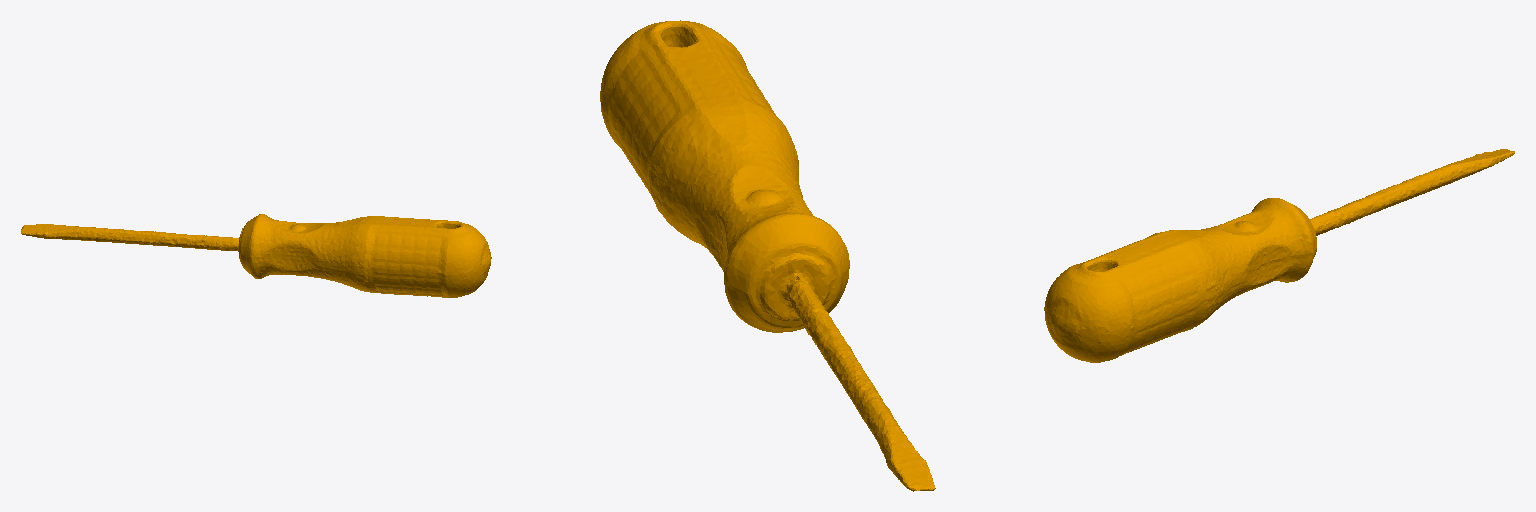
URDF robot description (044_flat_screwdriver):
<?xml version="1.0"?>
<robot name="044_flat_screwdriver">
  <link name="base_link">
    <inertial>
      <mass value="0.1" />
      <origin xyz="0 0 0" />
      <inertia  ixx="0.0002" ixy="0.0"  ixz="0.0"  iyy="0.0002"  iyz="0.0" izz="0.0002" />
    </inertial>
    <visual>
      <geometry>
        <mesh filename="../../meshes/ycb_video_models/centered/044_flat_screwdriver/textured.obj" />
      </geometry>
    </visual>
    <collision>
      <geometry>
        <mesh filename="../../meshes/ycb_video_models/centered/044_flat_screwdriver/textured.obj" />
      </geometry>
    </collision>
  </link>
</robot>

--- What the picture shows (computed from the rendered views, not written in the file) ---
The picture shows the robot from 3 angles, left to right: view 1: azimuth 30°, elevation 25°; view 2: azimuth 150°, elevation 25°; view 3: azimuth 270°, elevation 25°; orthographic projection.
Robot: 044_flat_screwdriver — 1 links, 0 joints (none); root link base_link; default pose: every joint at zero.
Visible links, largest first — view 1: base_link; view 2: base_link; view 3: base_link.
Link boxes in pixels (x1,y1,x2,y2): base_link: (21,214,491,297); base_link: (600,20,935,491); base_link: (1044,149,1514,362).
Bounding box of the posed robot: 0.1619 × 0.1569 × 0.035 m (x, y, z).
1 mesh visuals loaded from 1 distinct referenced files (1 OBJ).